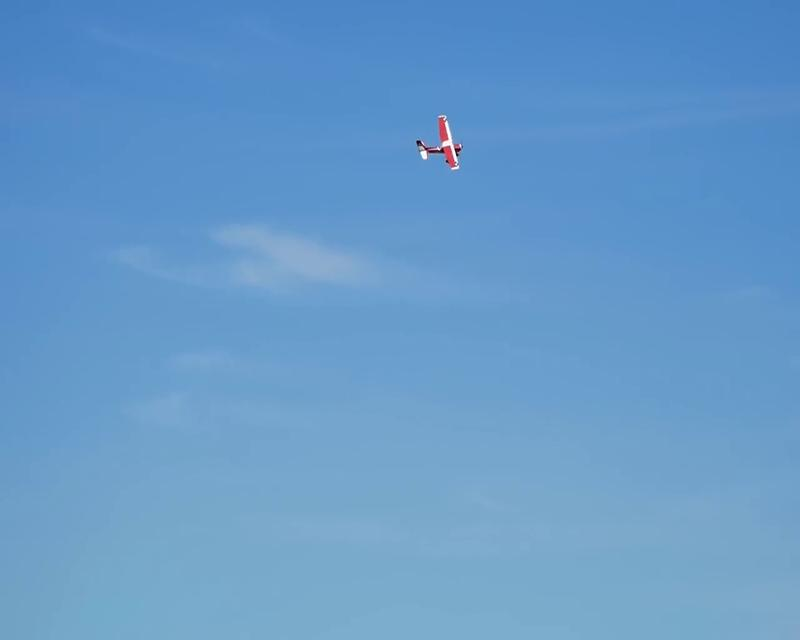UAV: (416, 115, 466, 171)
